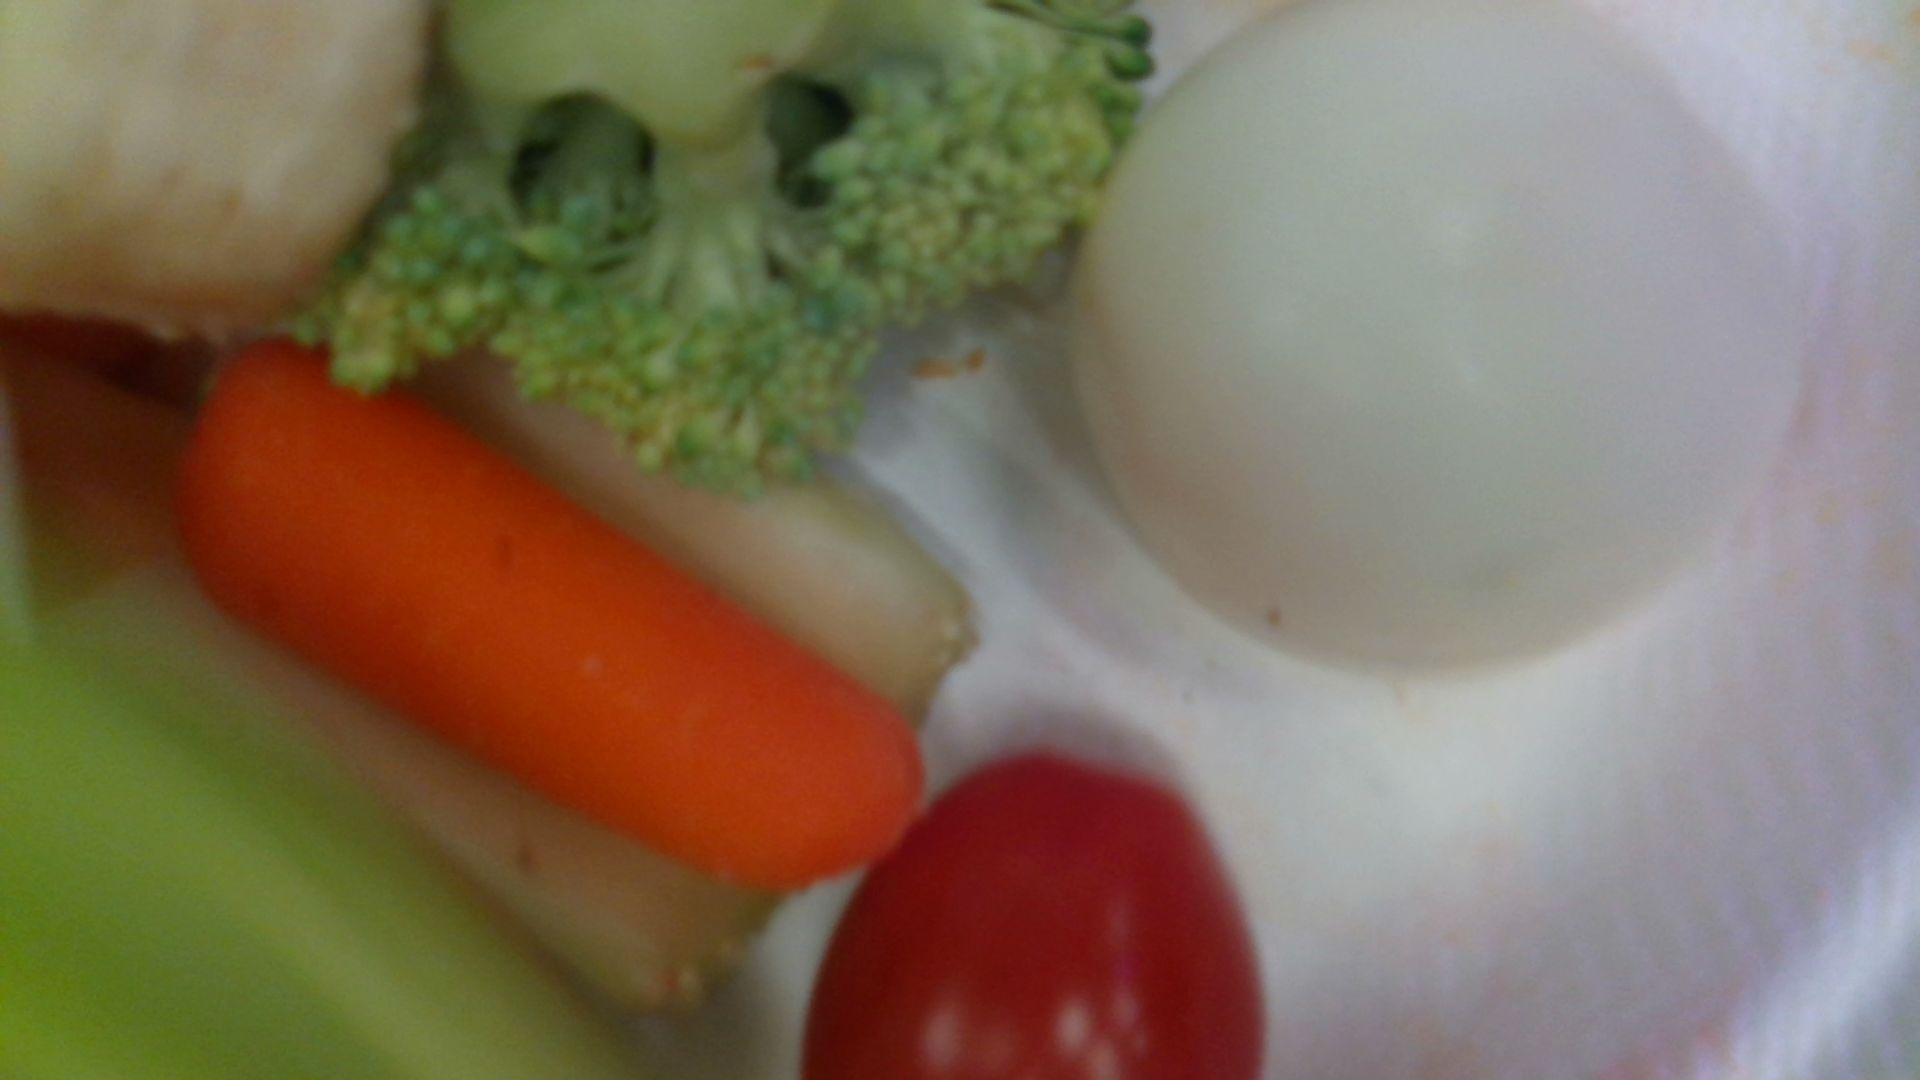broccoli: (305, 1, 1154, 483)
carrot: (175, 338, 927, 887)
cherry_tomato: (807, 753, 1263, 1080)
egg: (1075, 1, 1797, 678)
